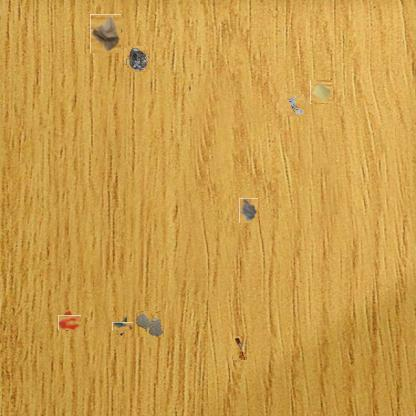dirty: (88, 16, 123, 51), (125, 47, 149, 71), (310, 81, 334, 104), (239, 198, 258, 223), (285, 95, 305, 115), (233, 336, 247, 360), (115, 319, 130, 334)
liquid: (134, 312, 164, 338), (60, 313, 79, 332)
